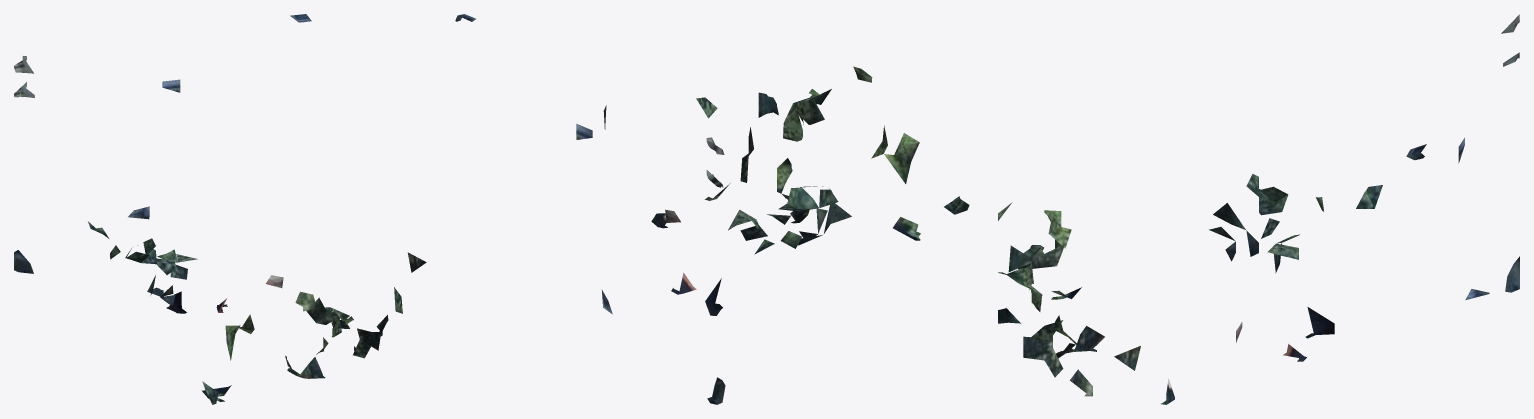
3 views of the same model, side by side, from view 1: azimuth 30°, elevation 25°; view 2: azimuth 150°, elevation 25°; view 3: azimuth 270°, elevation 25° (orthographic). The views are drawn at different scales.
Parts seen in each view (by area): view 1: 30436272704361724414_1; view 2: 30436272704361724414_1; view 3: 30436272704361724414_1.
Part boxes in pixels (left/top/right/bottom): 30436272704361724414_1: left=14, top=14, right=426, bottom=404; 30436272704361724414_1: left=455, top=14, right=969, bottom=404; 30436272704361724414_1: left=998, top=14, right=1519, bottom=404.
Size of the model in its own units: 27.31 by 23.27 by 38.26.
Materials: 1 (1 with a texture image).
